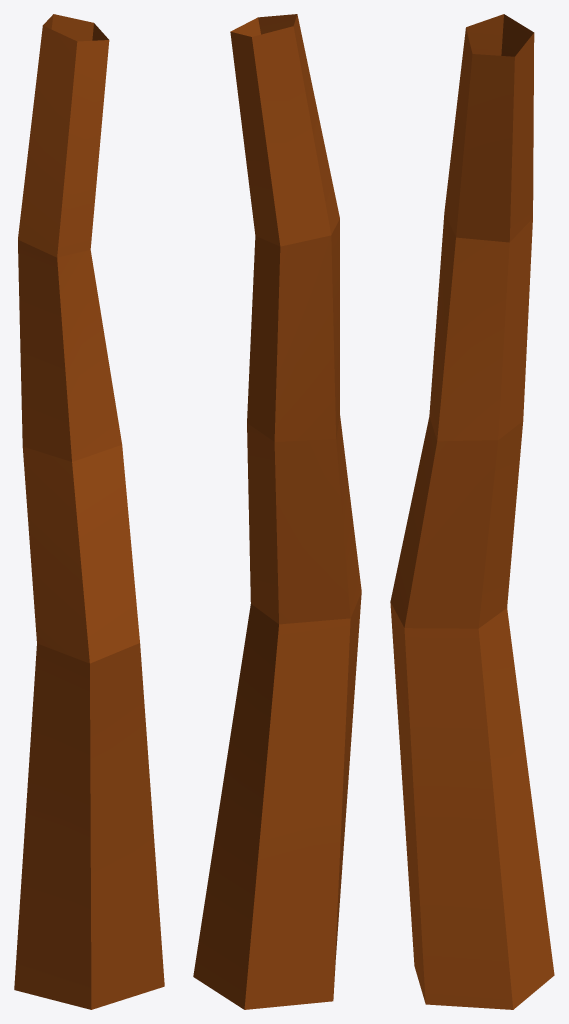
Rendered from TreeTrunk_06.fbx.
3 views of the same model, side by side, from view 1: azimuth 30°, elevation 25°; view 2: azimuth 150°, elevation 25°; view 3: azimuth 270°, elevation 25° (orthographic). The views are drawn at different scales.
Visible parts, largest first — view 1: TreeTrunk_06; view 2: TreeTrunk_06; view 3: TreeTrunk_06.
Boxes of the visible parts, x1,y1,x2,y2 form: TreeTrunk_06: (14,14,164,1009); TreeTrunk_06: (193,14,361,1009); TreeTrunk_06: (390,14,554,1009).
Bounding box in the file's own units: 33.05 × 236 × 36.88.
